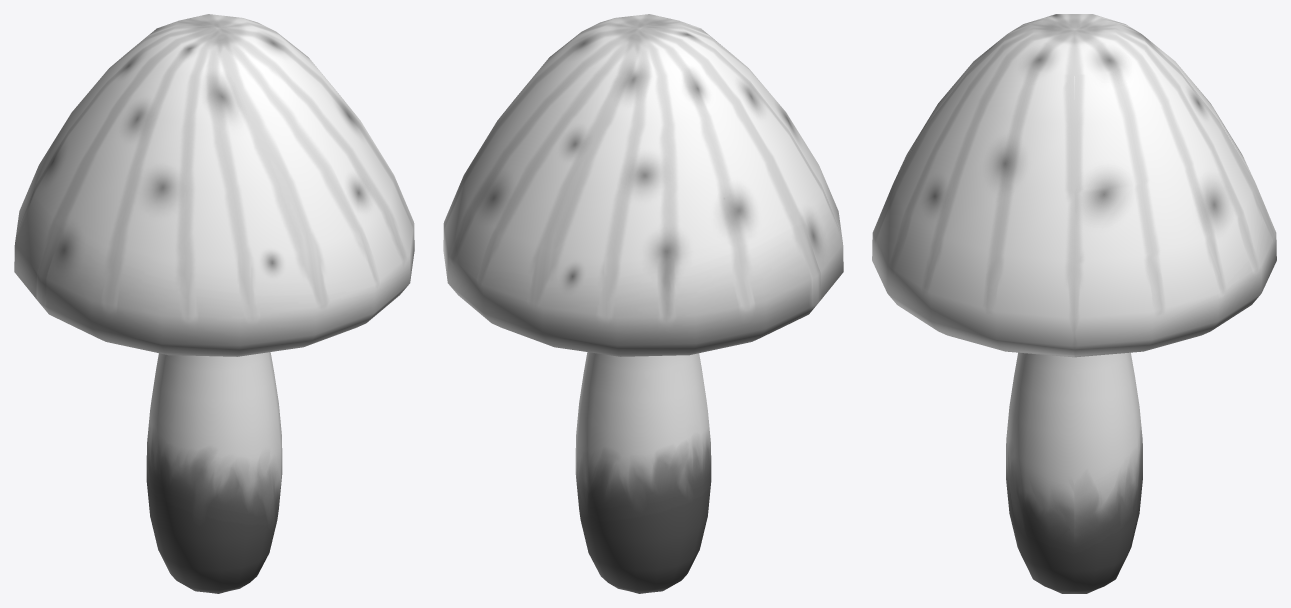
File: Mushroom_Pointy.fbx
3 views of the same model, side by side, from view 1: azimuth 30°, elevation 25°; view 2: azimuth 150°, elevation 25°; view 3: azimuth 270°, elevation 25° (orthographic).
Parts seen in each view (by area): view 1: Cube.001; view 2: Cube.001; view 3: Cube.001.
Part boxes in pixels (x1,y1,x2,y2): Cube.001: [14, 14, 414, 593]; Cube.001: [443, 14, 843, 593]; Cube.001: [872, 14, 1276, 593].
Bounding box in the file's own units: 690 × 1046 × 690.
